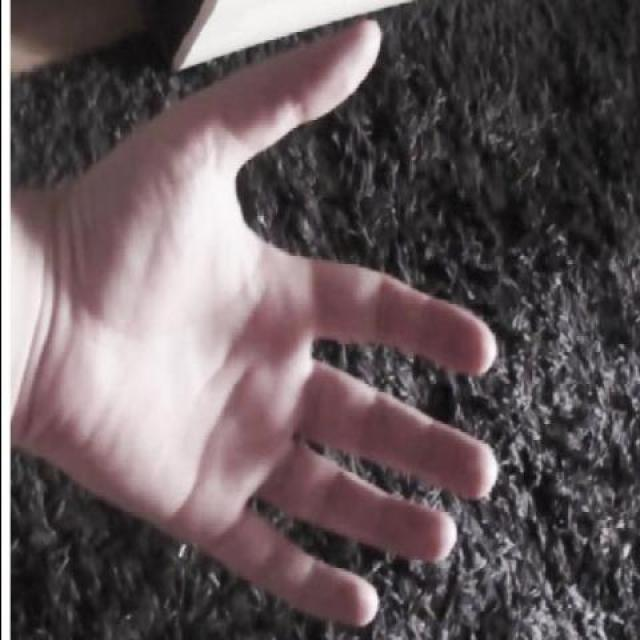Open Hand: (18, 17, 503, 627)
